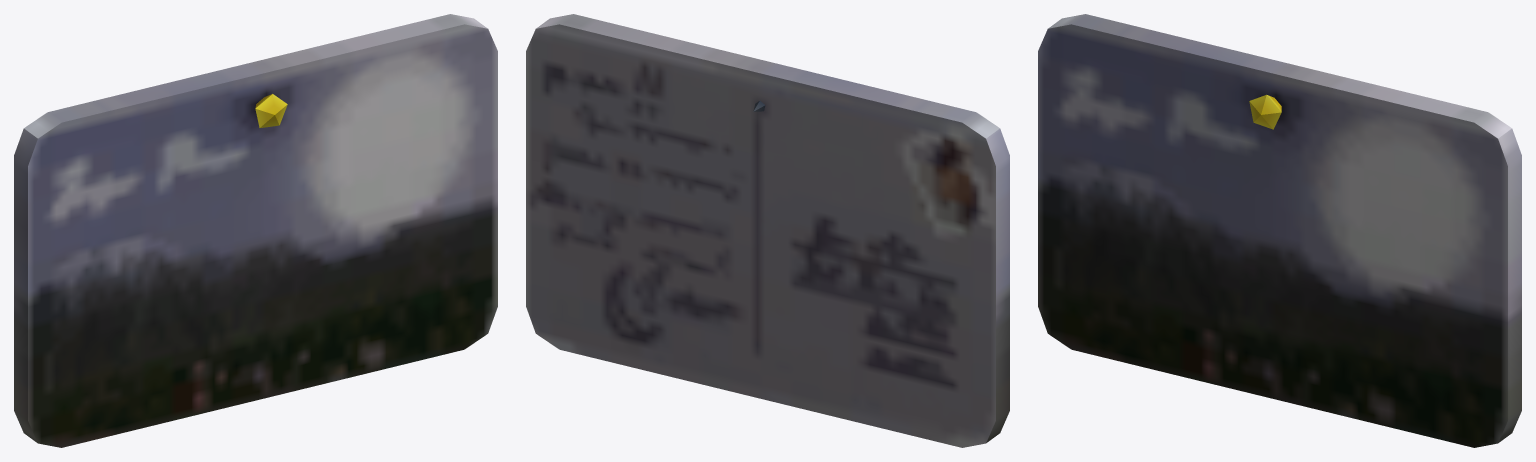
File: postal2.1.fbx
3 views of the same model, side by side, from view 1: azimuth 30°, elevation 25°; view 2: azimuth 150°, elevation 25°; view 3: azimuth 330°, elevation 25° (orthographic).
Parts seen in each view (by area): view 1: s4studio_mesh_0; view 2: s4studio_mesh_0; view 3: s4studio_mesh_0.
Boxes of the visible parts, x1,y1,x2,y2 form: s4studio_mesh_0: (14,14,497,447); s4studio_mesh_0: (526,14,1009,447); s4studio_mesh_0: (1038,14,1521,447).
Bounding box in the file's own units: 24.03 × 15.9 × 2.99.
Materials: 1 (1 with a texture image).
